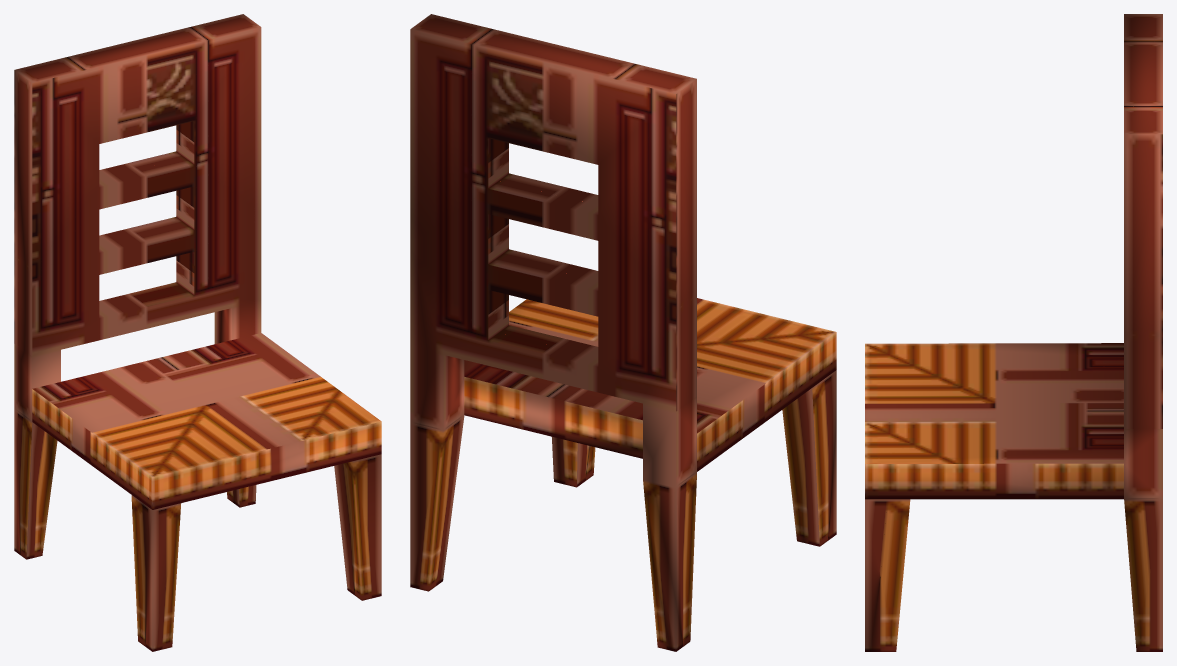
File: rmk_chc_chairS.dae
3 renders of one model, left to right at view 1: azimuth 30°, elevation 25°; view 2: azimuth 150°, elevation 25°; view 3: azimuth 270°, elevation 25°, orthographic. The views are drawn at different scales.
Parts seen in each view (by area): view 1: rmk_chc_chairS; view 2: rmk_chc_chairS; view 3: rmk_chc_chairS.
Part boxes in pixels (x1,y1,x2,y2): rmk_chc_chairS: (14, 14, 381, 651); rmk_chc_chairS: (410, 14, 836, 651); rmk_chc_chairS: (865, 14, 1162, 651).
Size of the model in its own units: 22 by 44.1 by 23.
1 material, 1 textured.
